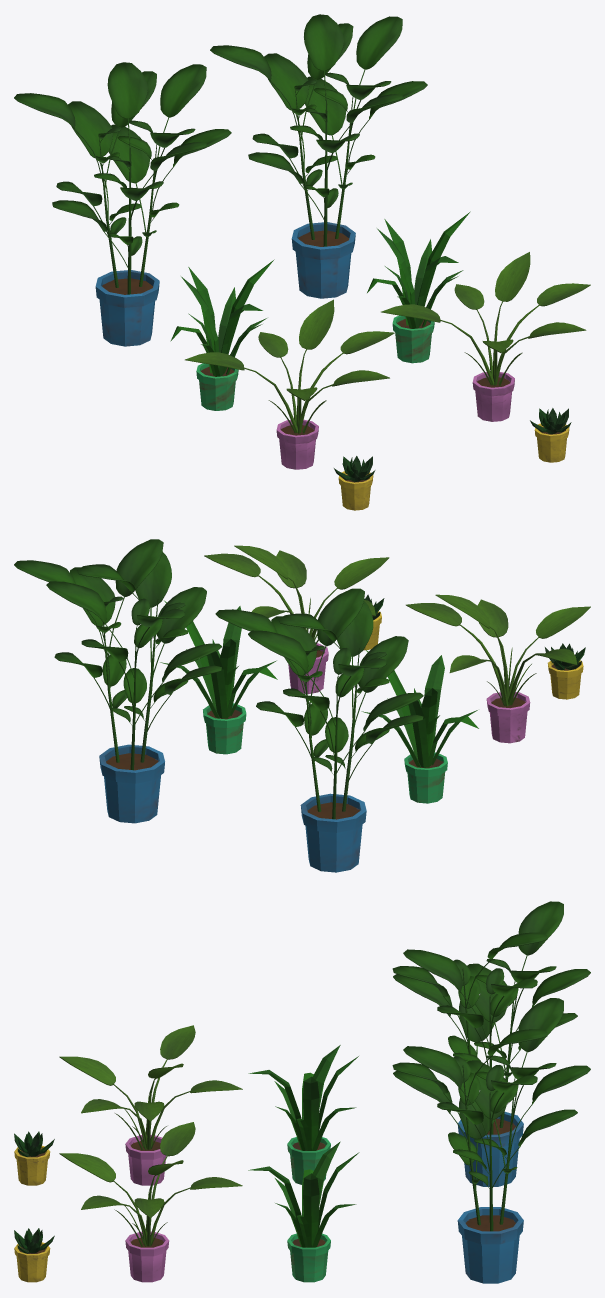
The model's file is PlantesFNL.fbx.
The picture shows the model from 3 angles, top to bottom: view 1: azimuth 30°, elevation 25°; view 2: azimuth 150°, elevation 25°; view 3: azimuth 270°, elevation 25°; orthographic projection. The views are drawn at different scales.
Parts seen in each view (by area): view 1: Plante2.001, Plante2, Plante1, Plante1.001, Plante3.001, Plante3, Plante4, Plante4.001; view 2: Plante2.001, Plante2, Plante1, Plante3, Plante3.001, Plante1.001, Plante4, Plante4.001; view 3: Plante2.001, Plante2, Plante1.001, Plante1, Plante3.001, Plante3, Plante4.001, Plante4.
Part boxes in pixels (x1=…): Plante2.001: x1=210, y1=14, x2=427, y2=298; Plante2: x1=14, y1=62, x2=231, y2=346; Plante1: x1=185, y1=299, x2=394, y2=469; Plante1.001: x1=381, y1=252, x2=590, y2=421; Plante3.001: x1=367, y1=211, x2=470, y2=363; Plante3: x1=170, y1=259, x2=274, y2=410; Plante4: x1=334, y1=456, x2=375, y2=510; Plante4.001: x1=530, y1=408, x2=571, y2=462; Plante2.001: x1=14, y1=539, x2=222, y2=823; Plante2: x1=215, y1=588, x2=423, y2=872; Plante1: x1=406, y1=594, x2=590, y2=743; Plante3: x1=361, y1=649, x2=478, y2=803; Plante3.001: x1=160, y1=600, x2=277, y2=754; Plante1.001: x1=204, y1=545, x2=389, y2=694; Plante4: x1=545, y1=643, x2=585, y2=699; Plante4.001: x1=364, y1=594, x2=384, y2=650; Plante2.001: x1=392, y1=998, x2=590, y2=1283; Plante2: x1=392, y1=901, x2=590, y2=1186; Plante1.001: x1=59, y1=1122, x2=242, y2=1282; Plante1: x1=59, y1=1025, x2=242, y2=1185; Plante3.001: x1=248, y1=1141, x2=359, y2=1282; Plante3: x1=248, y1=1045, x2=358, y2=1184; Plante4.001: x1=14, y1=1228, x2=54, y2=1282; Plante4: x1=14, y1=1131, x2=54, y2=1185.
Size of the model in its own units: 1053 by 655 by 1354.
